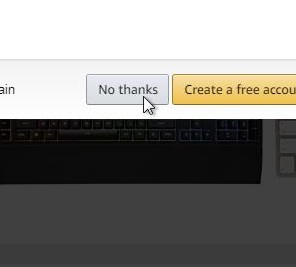cursor: (139, 92, 158, 118)
